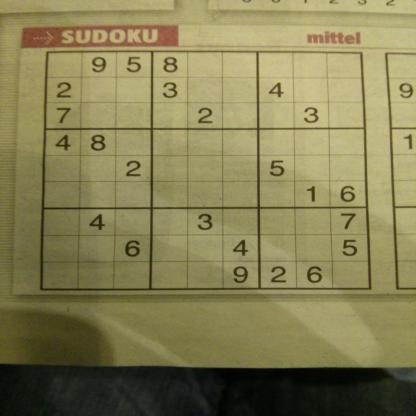sudoku: (34, 46, 376, 296)
